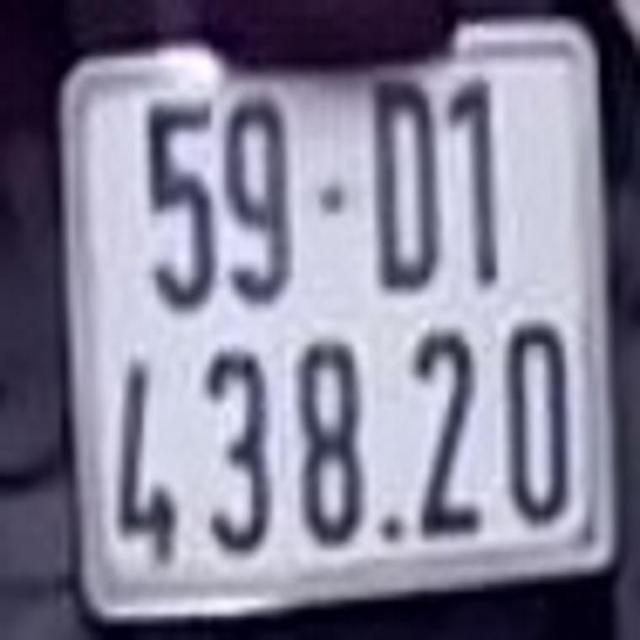0: (508, 322, 568, 519)
1: (446, 72, 511, 283)
2: (415, 335, 480, 530)
3: (205, 354, 270, 548)
4: (117, 360, 181, 562)
5: (150, 104, 215, 307)
8: (297, 348, 362, 542)
9: (224, 101, 291, 302)
D: (366, 78, 441, 288)
